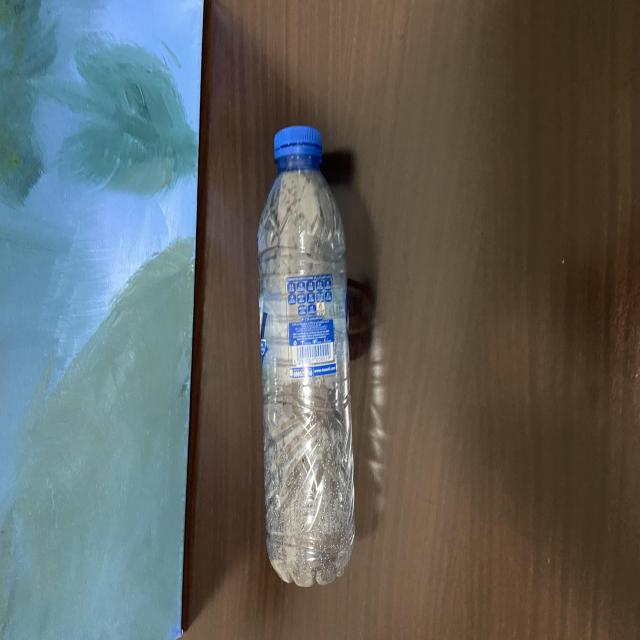plastic: (254, 125, 363, 588)
